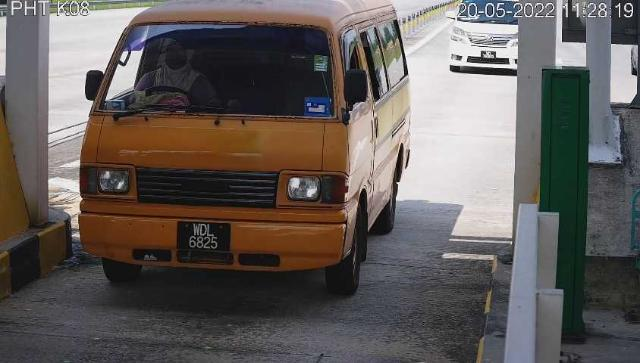License_Plate: (177, 220, 234, 257)
van: (81, 1, 412, 297)
